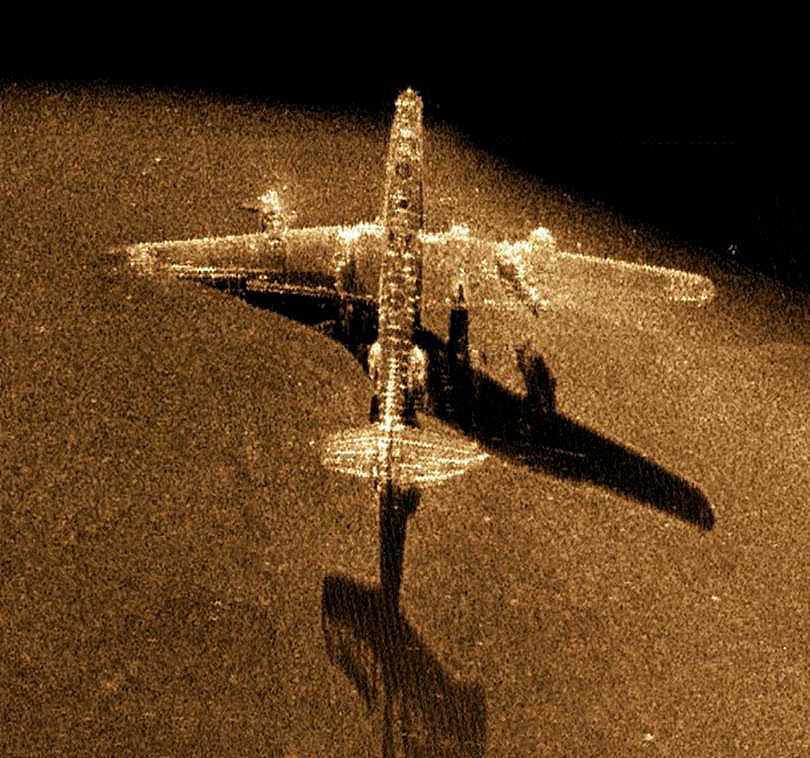aircraft: (99, 80, 720, 504)
